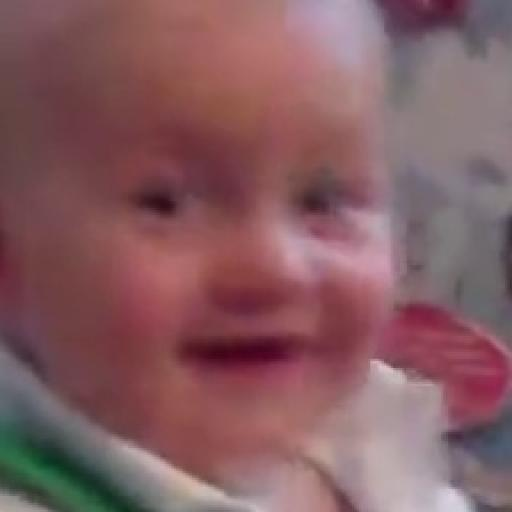Autism: (31, 12, 461, 480)
